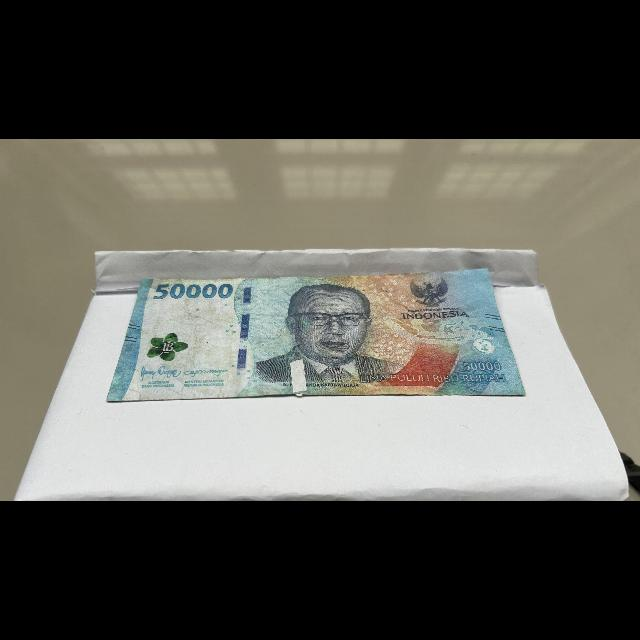Palsu-50k: (101, 266, 528, 404)
Tinta-Palsu-50k: (145, 332, 193, 363)
